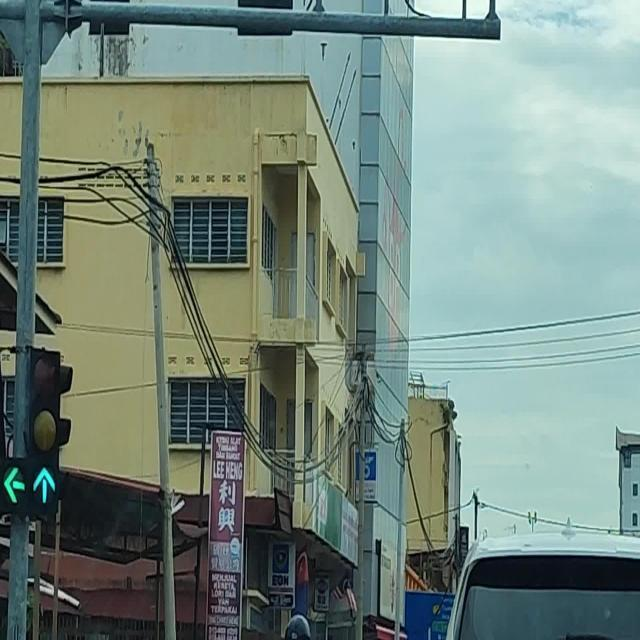green_light: (29, 350, 60, 516), (0, 350, 29, 513)
